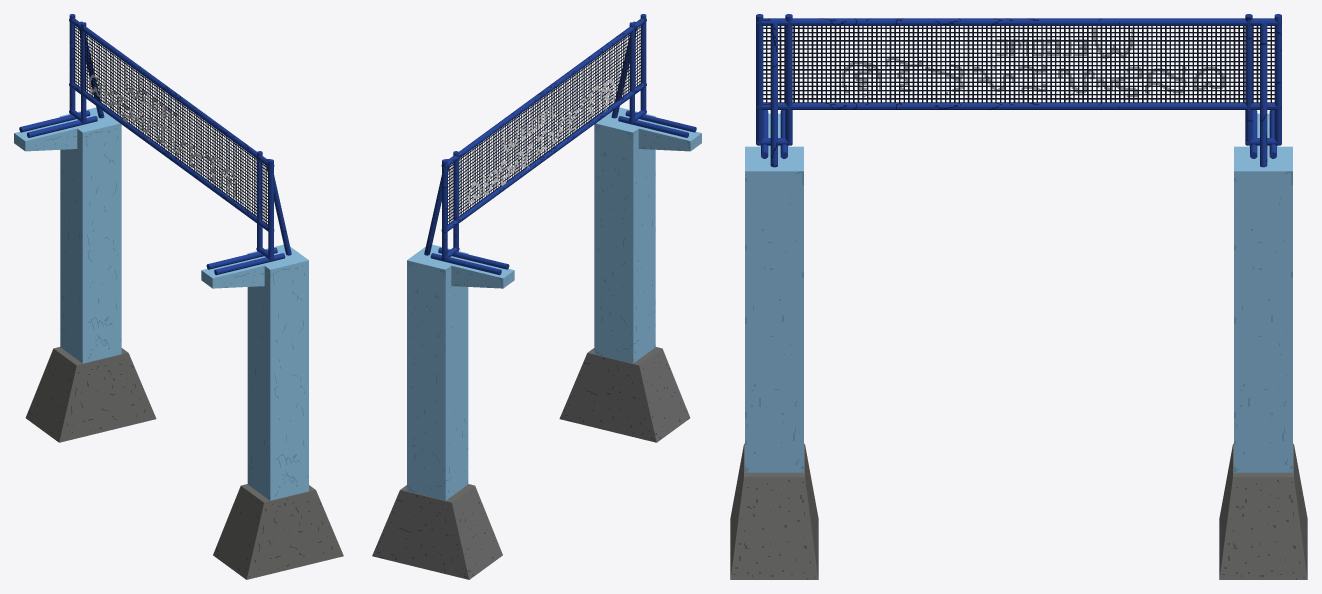
The model's file is Arko.gltf.
3 views of the same model, side by side, from view 1: azimuth 30°, elevation 25°; view 2: azimuth 150°, elevation 25°; view 3: azimuth 270°, elevation 25° (orthographic). The views are drawn at different scales.
Visible parts, largest first — view 1: cube (×4), Base (×2), Sign (×2), cylinder (×8); view 2: cube (×4), Base (×2), Sign (×2), cylinder (×8); view 3: cube (×2), Sign (×2), Base (×2), cylinder (×8).
Boxes of the visible parts, x1=… form: cube (×4): x1=14, y1=107, x2=308, y2=500; Base (×2): x1=25, y1=347, x2=343, y2=579; Sign (×2): x1=74, y1=25, x2=268, y2=225; cylinder (×8): x1=19, y1=14, x2=291, y2=275; cube (×4): x1=407, y1=107, x2=701, y2=500; Base (×2): x1=372, y1=347, x2=690, y2=579; Sign (×2): x1=447, y1=25, x2=641, y2=225; cylinder (×8): x1=424, y1=14, x2=696, y2=275; cube (×2): x1=745, y1=146, x2=1292, y2=472; Sign (×2): x1=763, y1=26, x2=1274, y2=102; Base (×2): x1=730, y1=443, x2=1307, y2=579; cylinder (×8): x1=756, y1=14, x2=1281, y2=167.
Bounding box in the file's own units: 0.2313 × 0.7406 × 0.7375.
8 materials, 8 textured.
